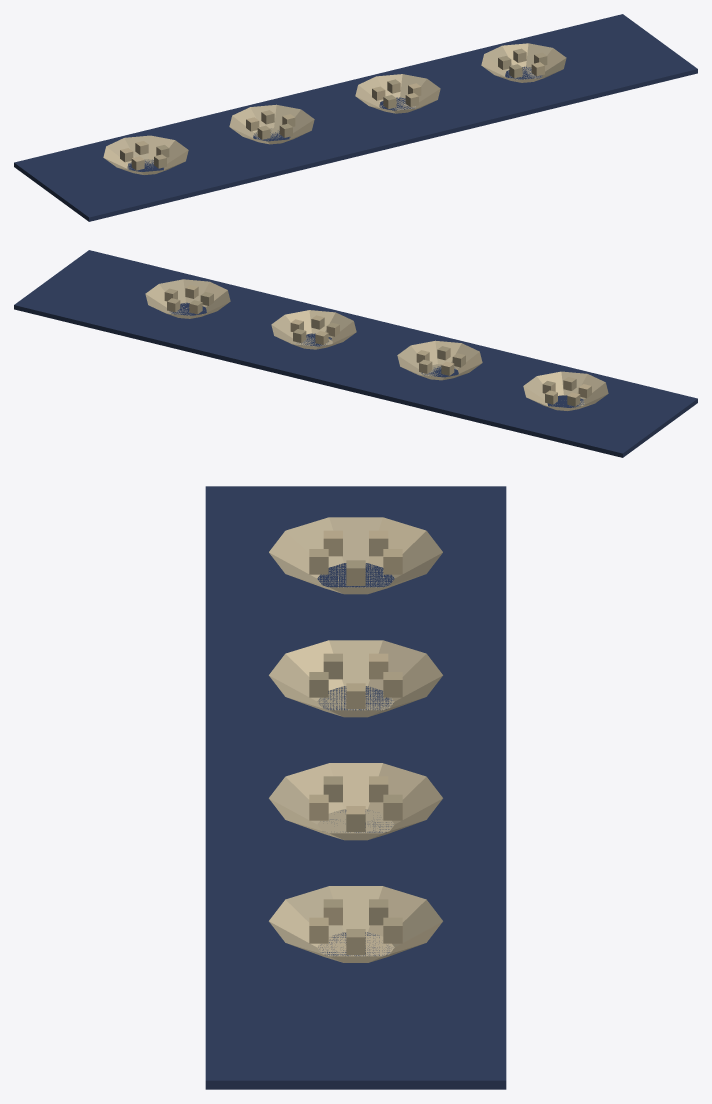
The model's file is walk_prop_goods_pearls.glb.
The picture shows the model from 3 angles, top to bottom: view 1: azimuth 30°, elevation 25°; view 2: azimuth 150°, elevation 25°; view 3: azimuth 270°, elevation 25°; orthographic projection. The views are drawn at different scales.
Parts seen in each view (by area): view 1: walk_prop_goods_pearls; view 2: walk_prop_goods_pearls; view 3: walk_prop_goods_pearls.
Boxes of the visible parts, x1=… form: walk_prop_goods_pearls: x1=14, y1=14, x2=697, y2=221; walk_prop_goods_pearls: x1=14, y1=250, x2=697, y2=457; walk_prop_goods_pearls: x1=205, y1=486, x2=506, y2=1089.
Size of the model in its own units: 2.9 by 0.09 by 0.62.
Materials: 1 (1 with a texture image).
